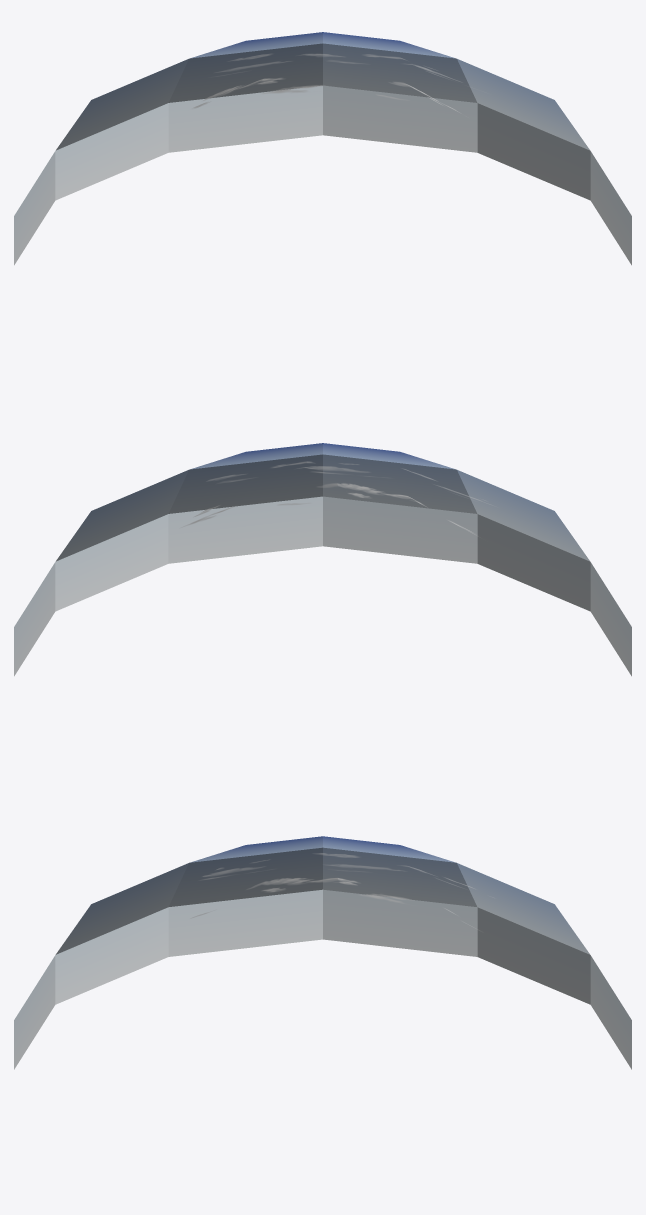
The model's file is glf_sky__glf_sky.glb.
3 views of the same model, one above another, from view 1: azimuth 30°, elevation 25°; view 2: azimuth 150°, elevation 25°; view 3: azimuth 270°, elevation 25° (orthographic).
Parts seen in each view (by area): view 1: polygon0, polygon1, polygon2; view 2: polygon0, polygon1, polygon2; view 3: polygon0, polygon1, polygon2.
Boxes of the visible parts, x1,y1,x2,y2 form: polygon0: (14,32,631,265); polygon1: (192,78,459,112); polygon2: (216,54,459,81); polygon0: (14,443,631,676); polygon1: (181,483,475,534); polygon2: (207,461,490,504); polygon0: (14,836,631,1069); polygon1: (190,878,473,927); polygon2: (202,853,474,888).
Bounding box in the file's own units: 12255 × 4027 × 12255.
4 materials, 4 textured.
